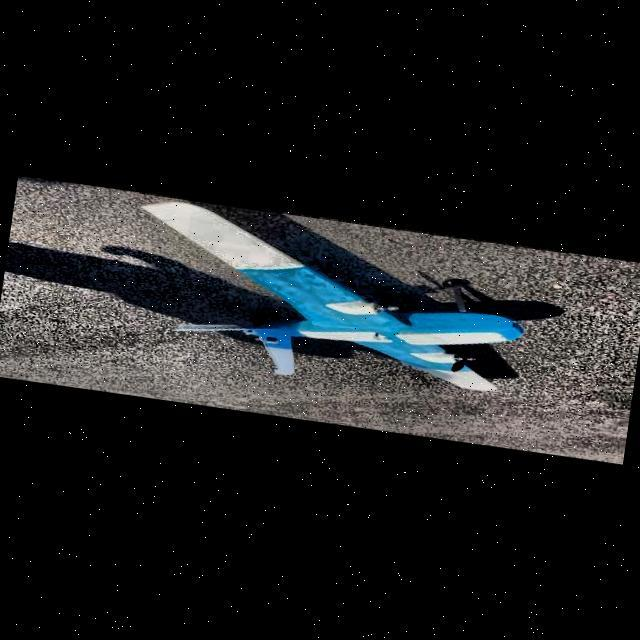iha: (116, 192, 565, 429)
